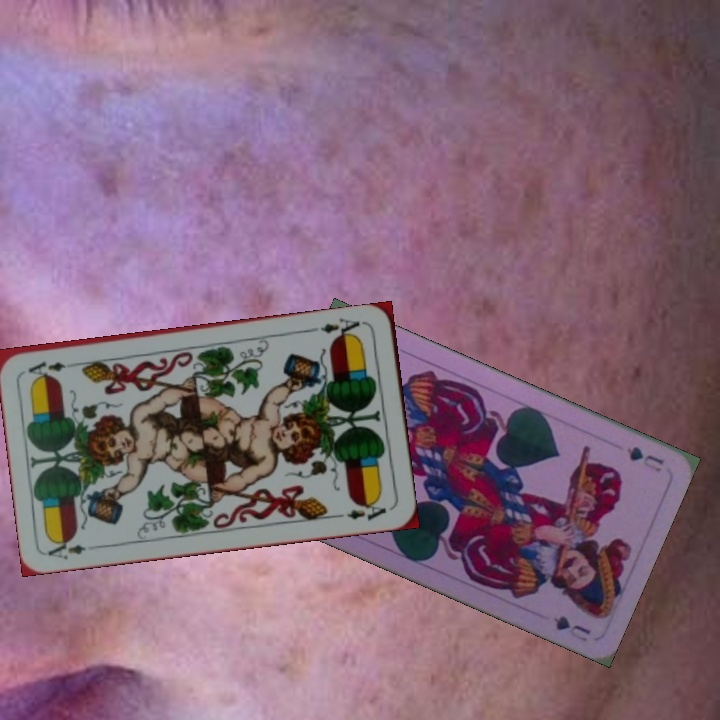EA: (317, 314, 368, 342), (44, 534, 88, 562)
GU: (622, 442, 667, 475)
